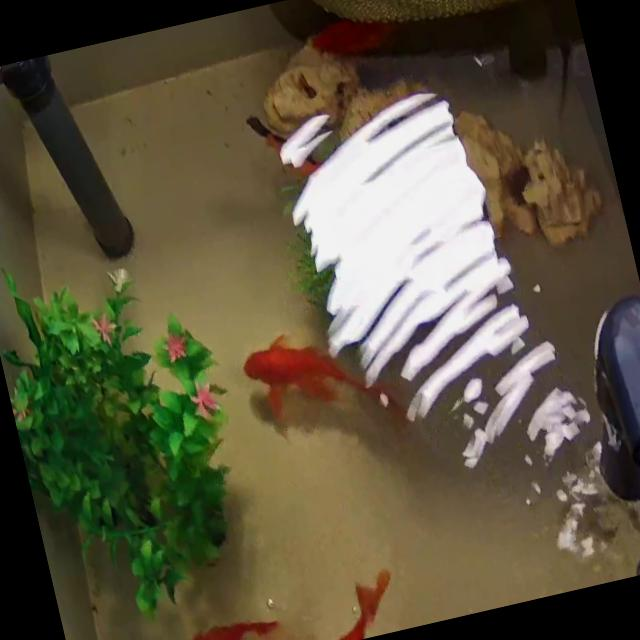fish: (241, 322, 359, 428), (246, 566, 396, 640), (306, 8, 397, 68), (155, 606, 302, 640), (244, 105, 294, 161)
